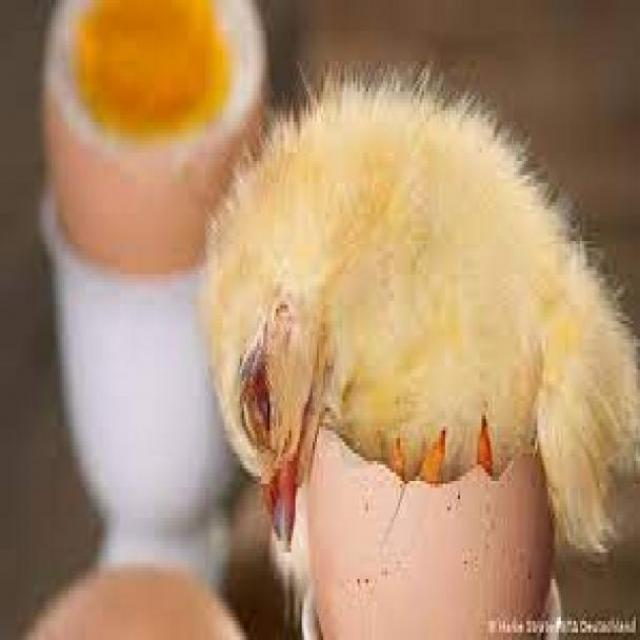Chicken: (200, 100, 640, 548)
